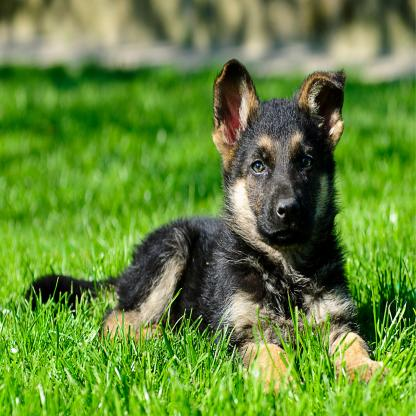dog: (26, 62, 384, 390)
